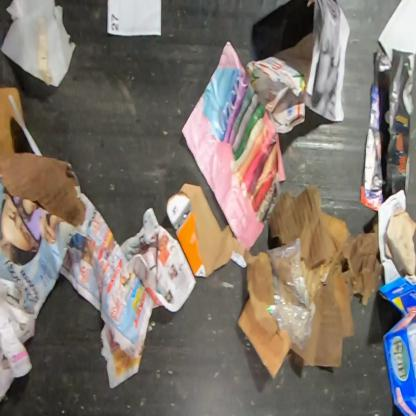cardboard: (237, 182, 383, 380), (166, 182, 250, 278), (0, 153, 94, 235), (378, 276, 416, 416), (0, 88, 32, 159), (384, 205, 415, 277)
